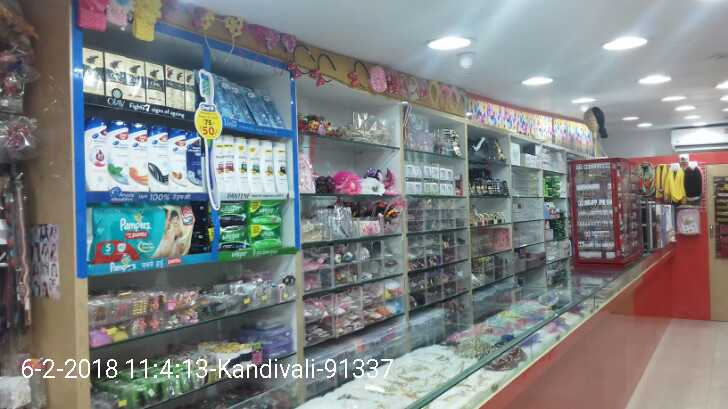venus: (221, 81, 238, 122), (251, 91, 266, 126), (266, 95, 280, 126), (238, 91, 251, 122)
